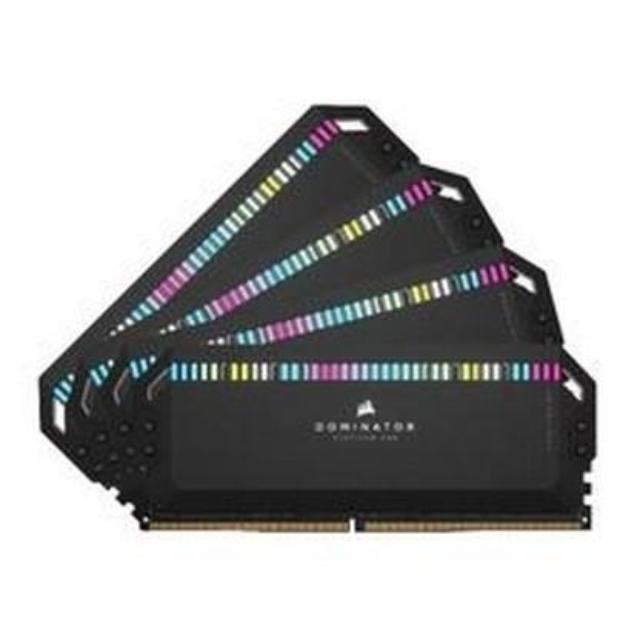RAM: (26, 95, 611, 552)
